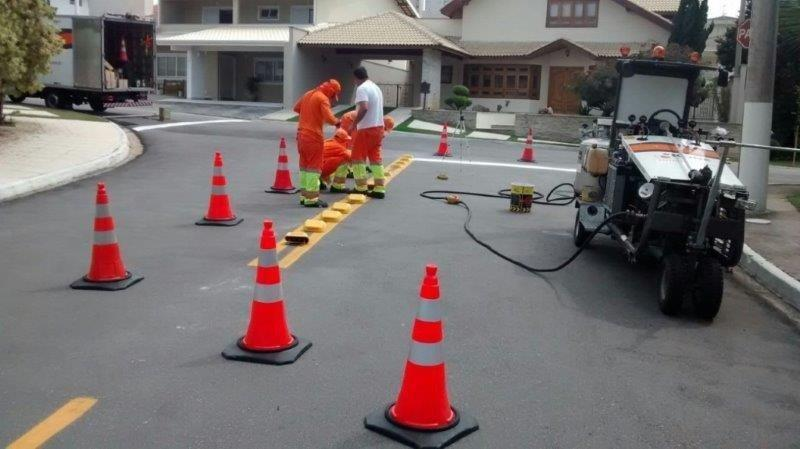traffic_cone: (221, 219, 312, 365), (384, 263, 461, 432), (69, 181, 144, 291), (194, 151, 244, 226), (265, 136, 299, 194), (517, 127, 537, 163), (433, 121, 452, 157)
